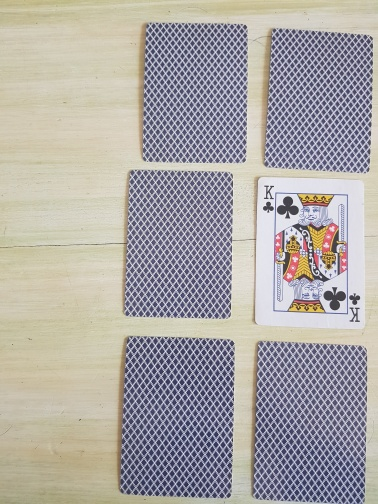king: (254, 177, 367, 329)
